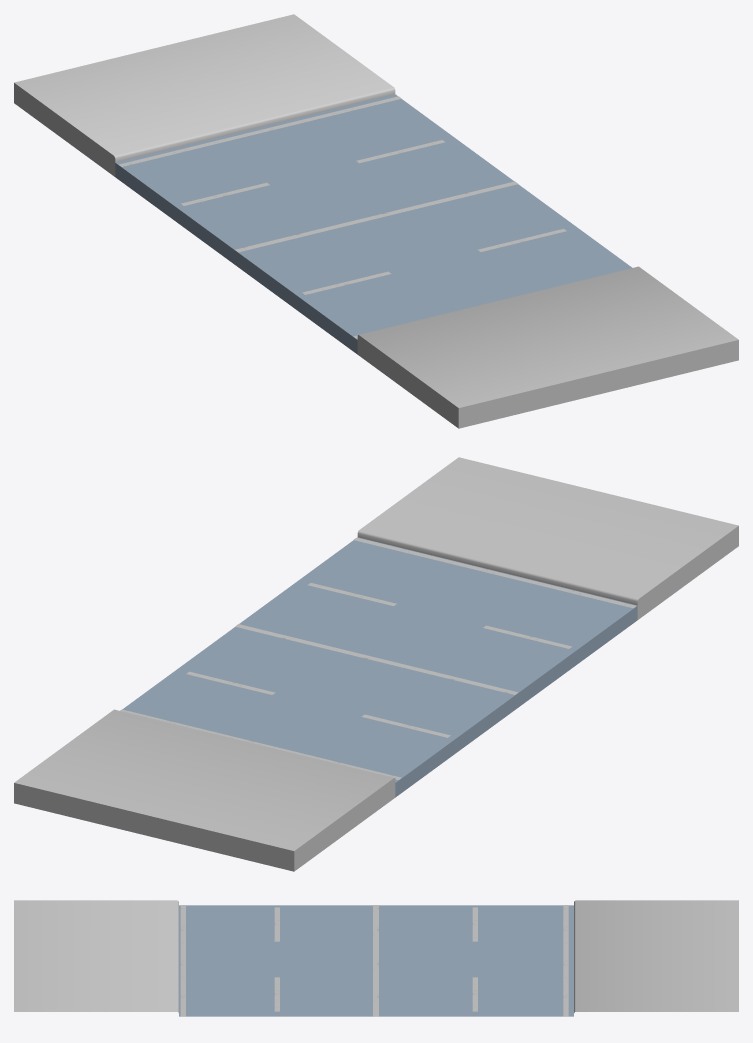
The model's file is Road_013.fbx.
The picture shows the model from 3 angles, top to bottom: view 1: azimuth 30°, elevation 25°; view 2: azimuth 150°, elevation 25°; view 3: azimuth 270°, elevation 25°; orthographic projection. The views are drawn at different scales.
Visible parts, largest first — view 1: Road_013; view 2: Road_013; view 3: Road_013.
Boxes of the visible parts, box(x1,y1,x2,y2) form: Road_013: box(14, 14, 738, 428); Road_013: box(14, 457, 738, 871); Road_013: box(14, 900, 738, 1016).
Bounding box in the file's own units: 801 × 56.17 × 2202.
